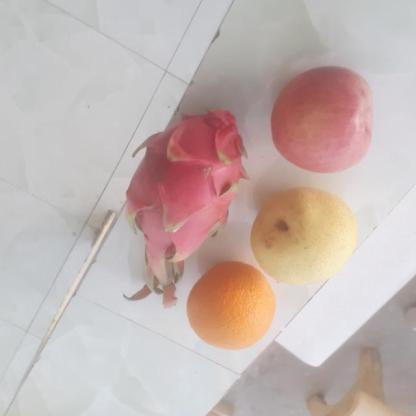apple: (271, 69, 378, 174)
orange: (186, 260, 280, 349)
pear: (250, 189, 362, 284)
pitaya: (126, 109, 250, 267)
